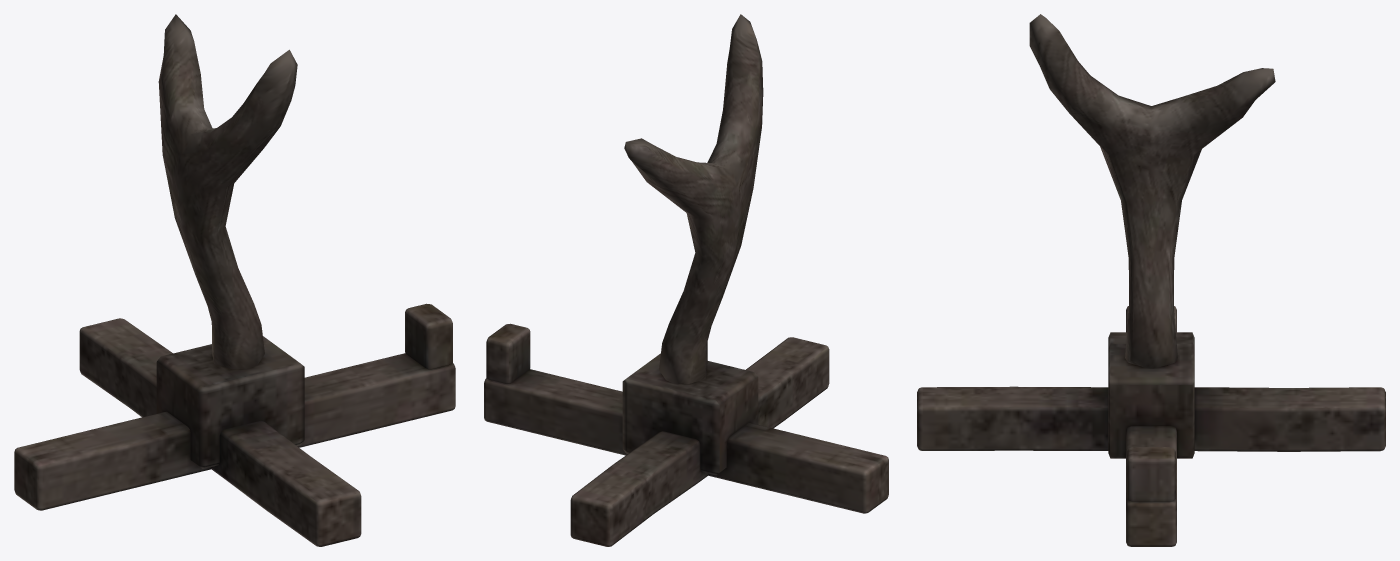
The model's file is SM_FishingPond_Rodpillow_c6591a.glb.
The picture shows the model from 3 angles, left to right: view 1: azimuth 30°, elevation 25°; view 2: azimuth 150°, elevation 25°; view 3: azimuth 270°, elevation 25°; orthographic projection. The views are drawn at different scales.
Size of the model in its own units: 0.5098 by 0.5178 by 0.5066.
1 material, 1 textured.
